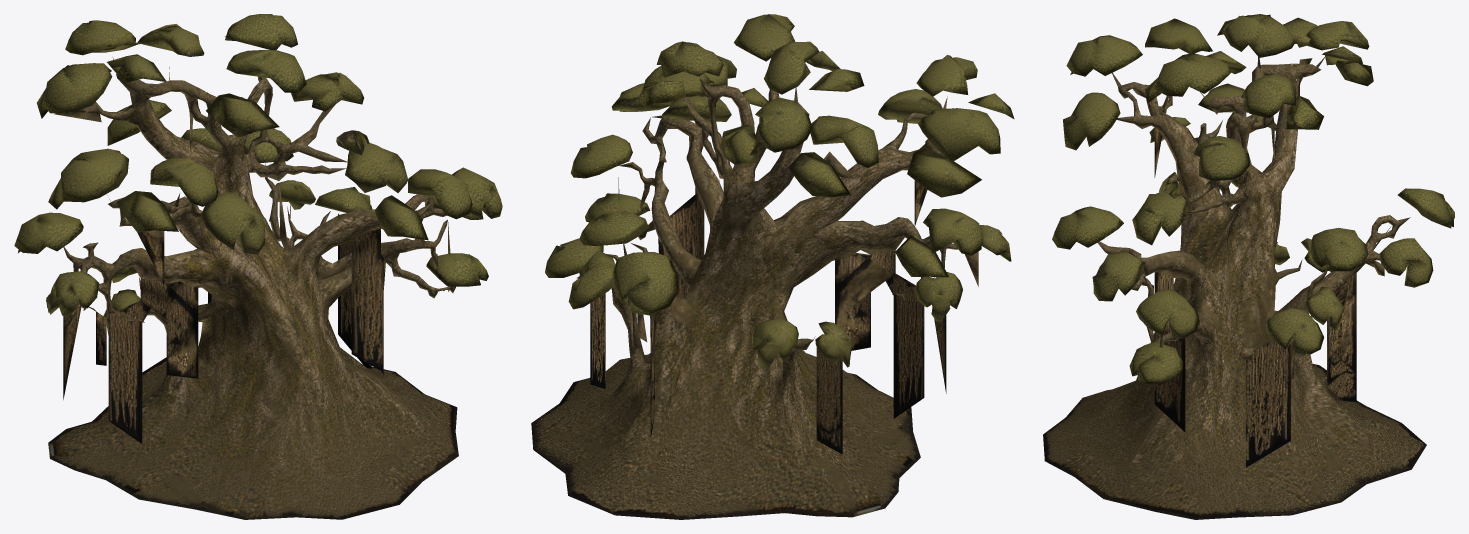
Rendered from apa-itu-animisme.glb.
3 renders of one model, left to right at view 1: azimuth 30°, elevation 25°; view 2: azimuth 150°, elevation 25°; view 3: azimuth 270°, elevation 25°, orthographic. The views are drawn at different scales.
Visible parts, largest first — view 1: tripo_node_4b9e5e86-f82a-4364-afc2-5cac4d50df37; view 2: tripo_node_4b9e5e86-f82a-4364-afc2-5cac4d50df37; view 3: tripo_node_4b9e5e86-f82a-4364-afc2-5cac4d50df37.
Boxes of the visible parts, box(x1,y1,x2,y2) form: tripo_node_4b9e5e86-f82a-4364-afc2-5cac4d50df37: box(14, 14, 502, 519); tripo_node_4b9e5e86-f82a-4364-afc2-5cac4d50df37: box(531, 14, 1014, 519); tripo_node_4b9e5e86-f82a-4364-afc2-5cac4d50df37: box(1043, 14, 1454, 519).
Bounding box in the file's own units: 0.998 × 0.9395 × 0.8926.
1 material, 1 textured.
